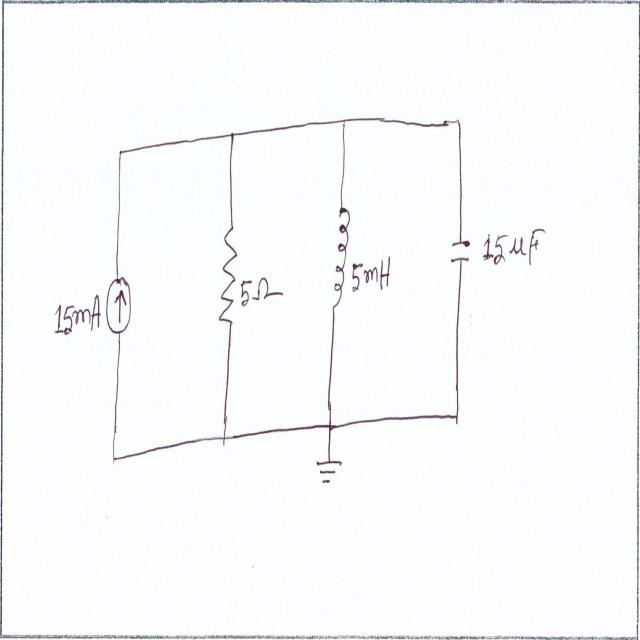capacitor: (449, 232, 471, 278)
current_source: (105, 272, 133, 342)
ground: (310, 452, 348, 486)
inductor: (326, 202, 352, 311)
resistor: (219, 224, 239, 332)
